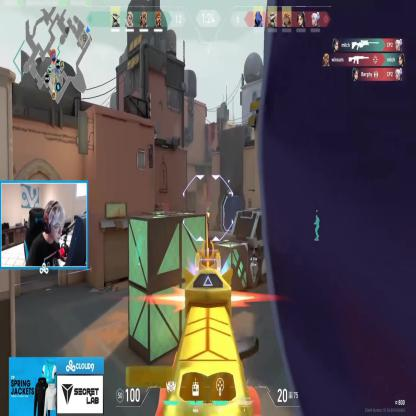enemy: (205, 213, 209, 231)
